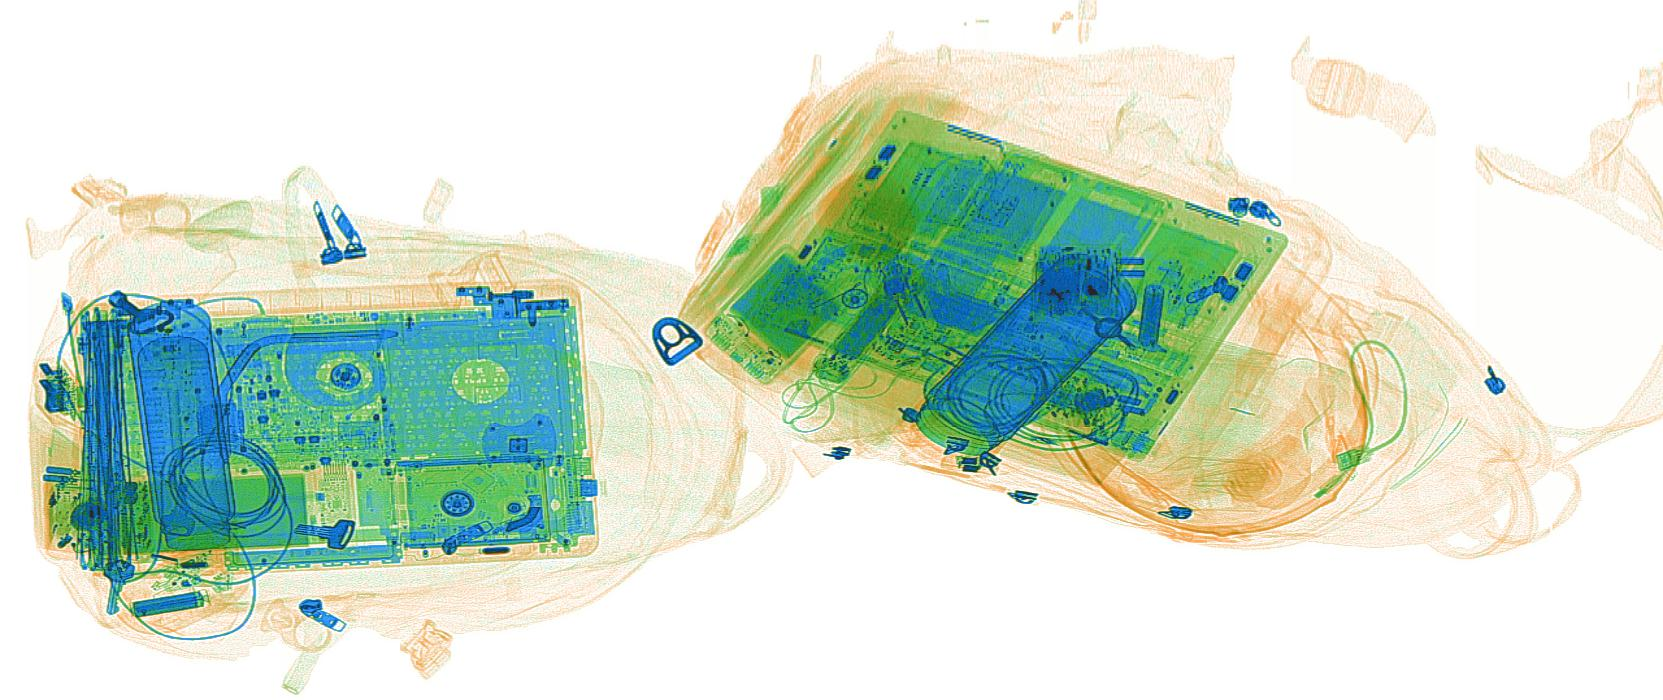battery: (827, 292, 897, 367), (128, 589, 204, 619), (1137, 282, 1166, 347)
